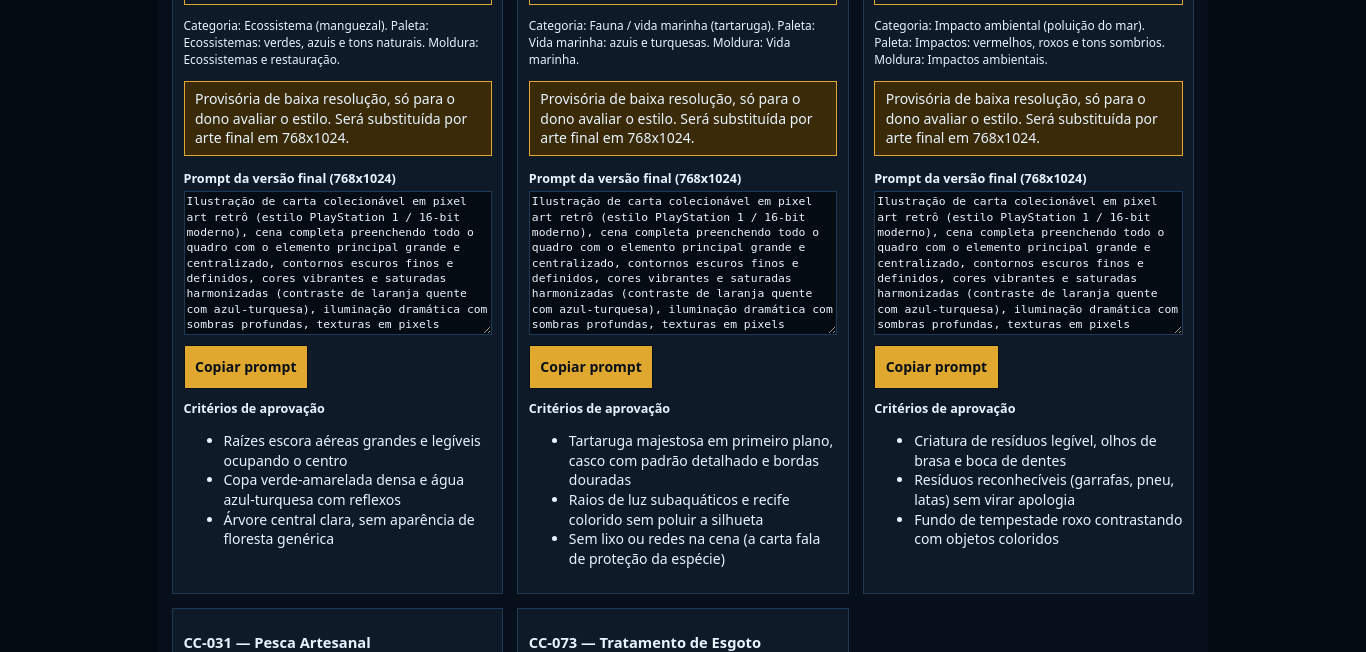
Scenario: página de avaliação (?arte=1) › falha ao copiar mostra aviso
(page scrolled)
Click the button "Copiar prompt" below "Vida marinha: azuis e turquesas" at (591, 367), box x1=529 y1=345 x2=653 y2=389
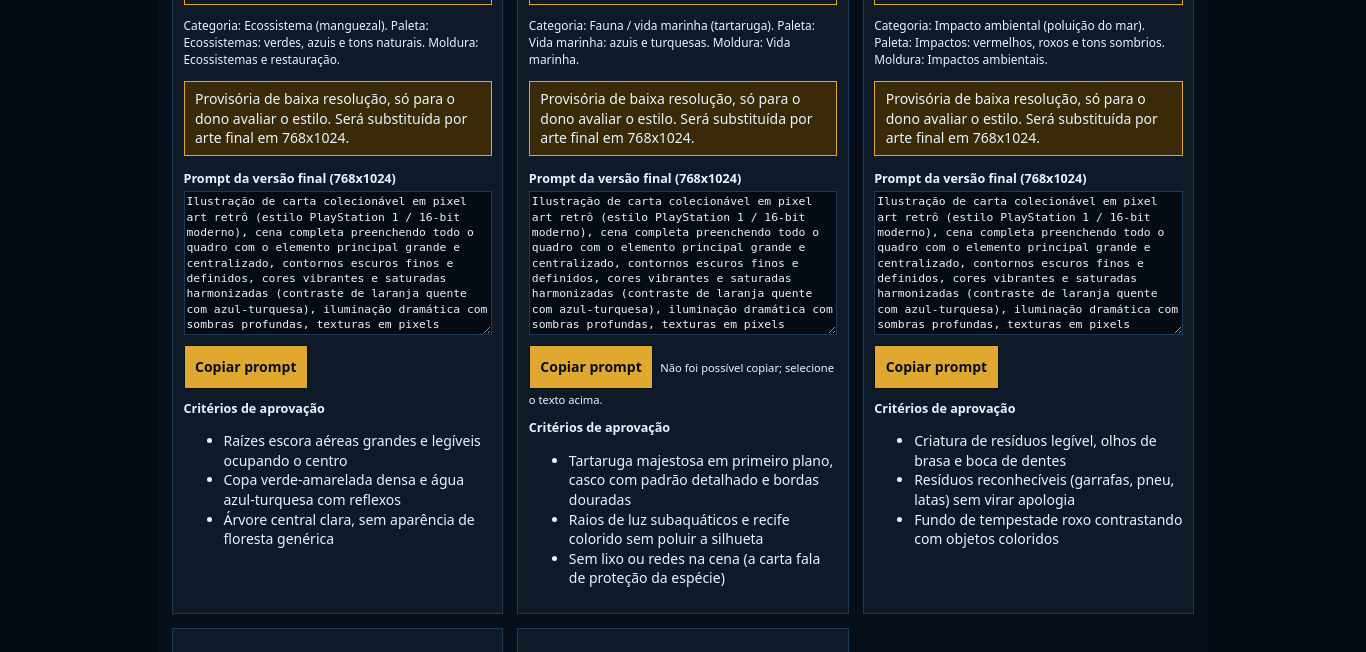
Expected: the text "Não foi possível copiar; selecione o texto acima." is shown, x1=529 y1=360 x2=834 y2=407
